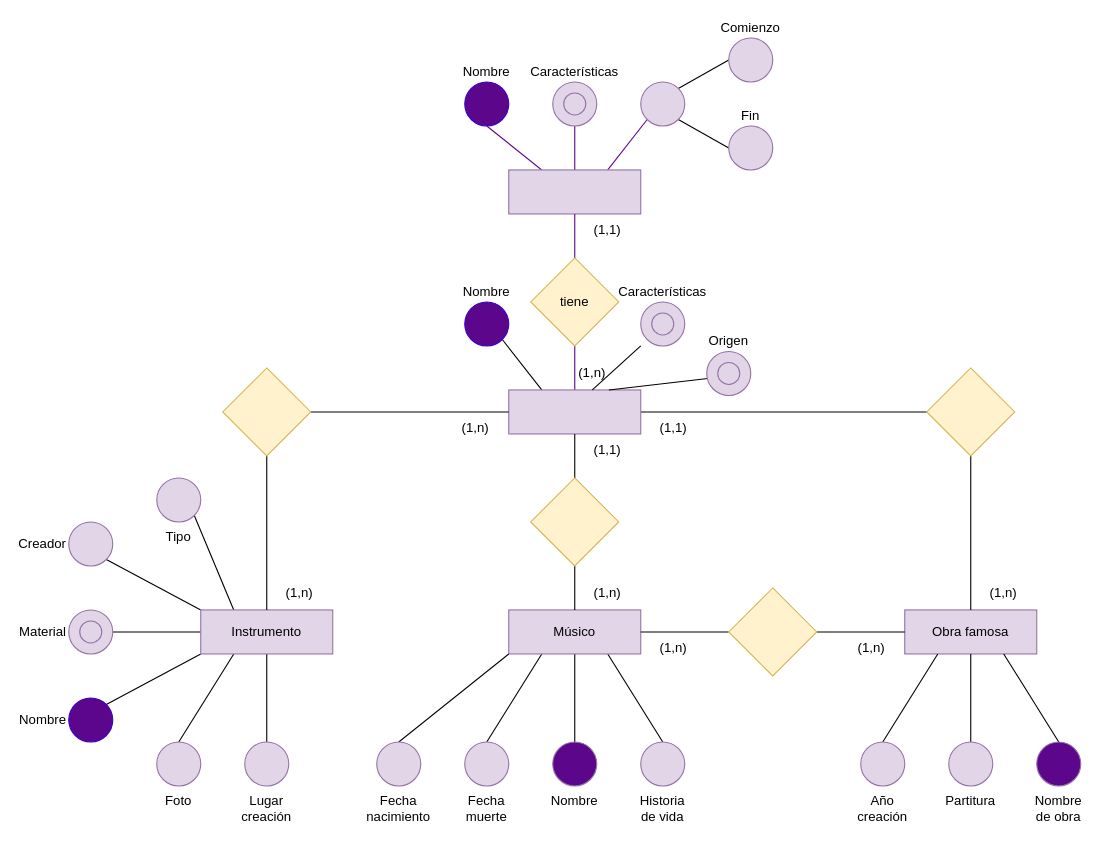
This 1101x844 diagram has some shape labels left out. Here are the shapes that lost their labels. From the top down, the centre of each, then its label:
(662,103): Período
(574,191): Época
(266,411): se usan
(574,411): Género
(970,411): posee
(574,521): pertenece
(772,631): compone
